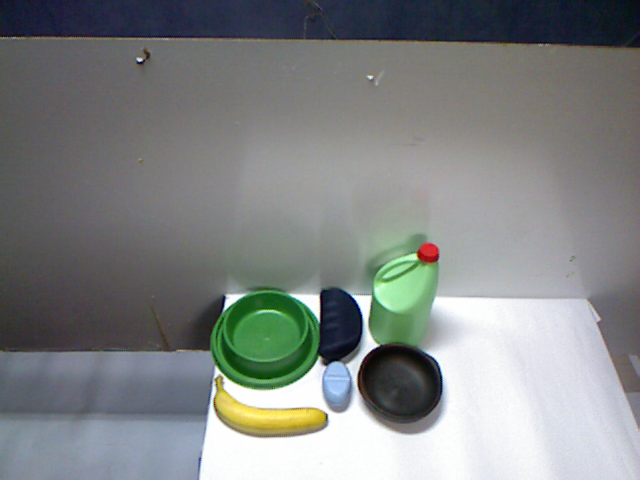esponja: (241, 367, 306, 432)
greda: (293, 305, 378, 386)
harina: (381, 271, 457, 357)
jabon: (373, 361, 422, 407)
jugoind: (217, 308, 254, 373)
papas: (248, 238, 304, 347)
